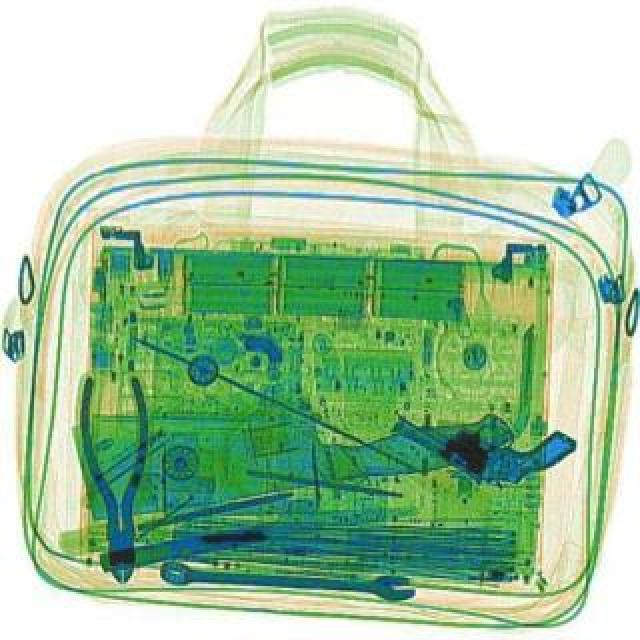gun: (390, 356, 578, 508)
knife: (70, 350, 514, 526), (96, 492, 420, 568)
scissors: (160, 556, 416, 600)
wrench: (76, 374, 152, 582)
